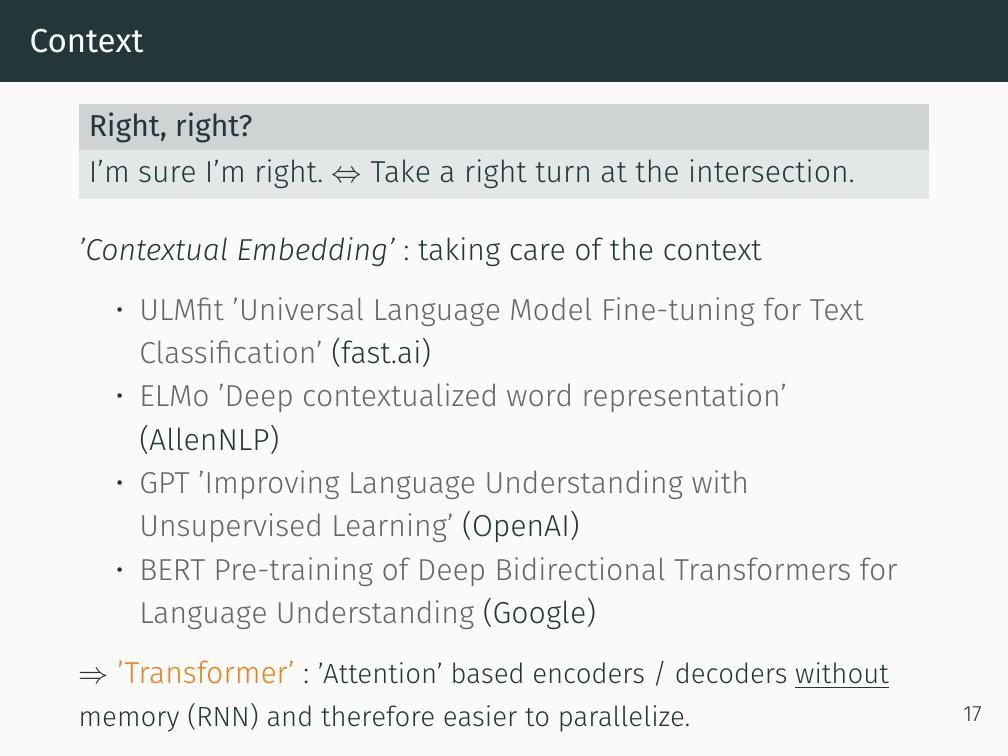Title: (25, 23, 147, 60)
